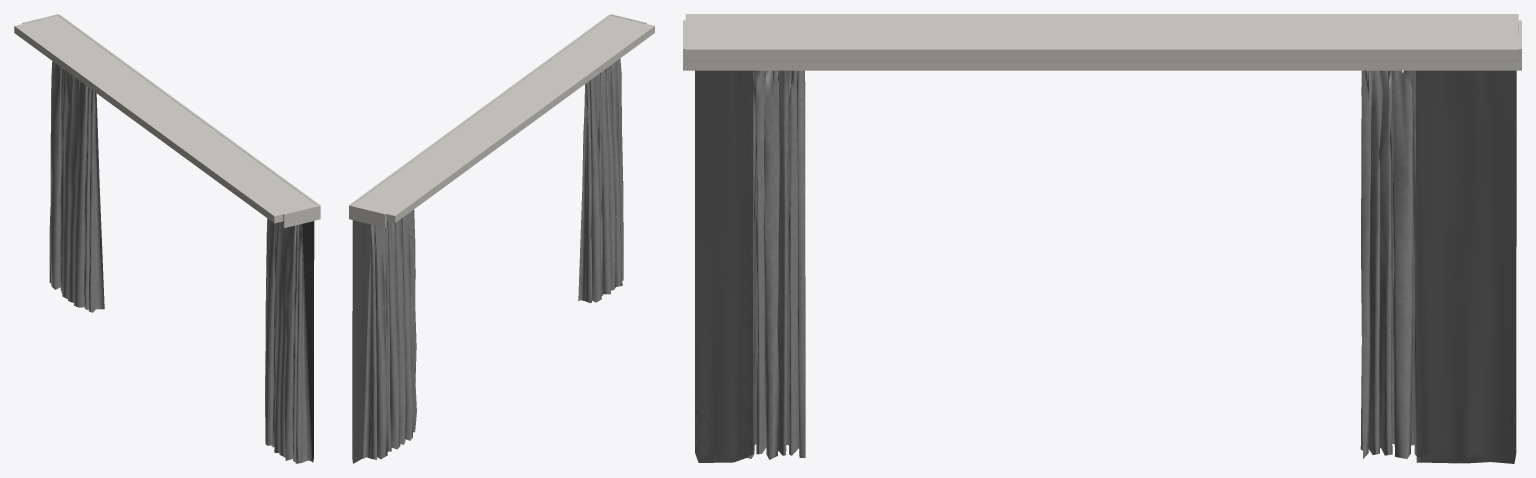
File: Curtains0001.obj
The picture shows the model from 3 angles, left to right: view 1: azimuth 30°, elevation 25°; view 2: azimuth 150°, elevation 25°; view 3: azimuth 270°, elevation 25°; orthographic projection. The views are drawn at different scales.
Size of the model in its own units: 0.528 by 2.86 by 5.22.
1 material, 1 textured.
